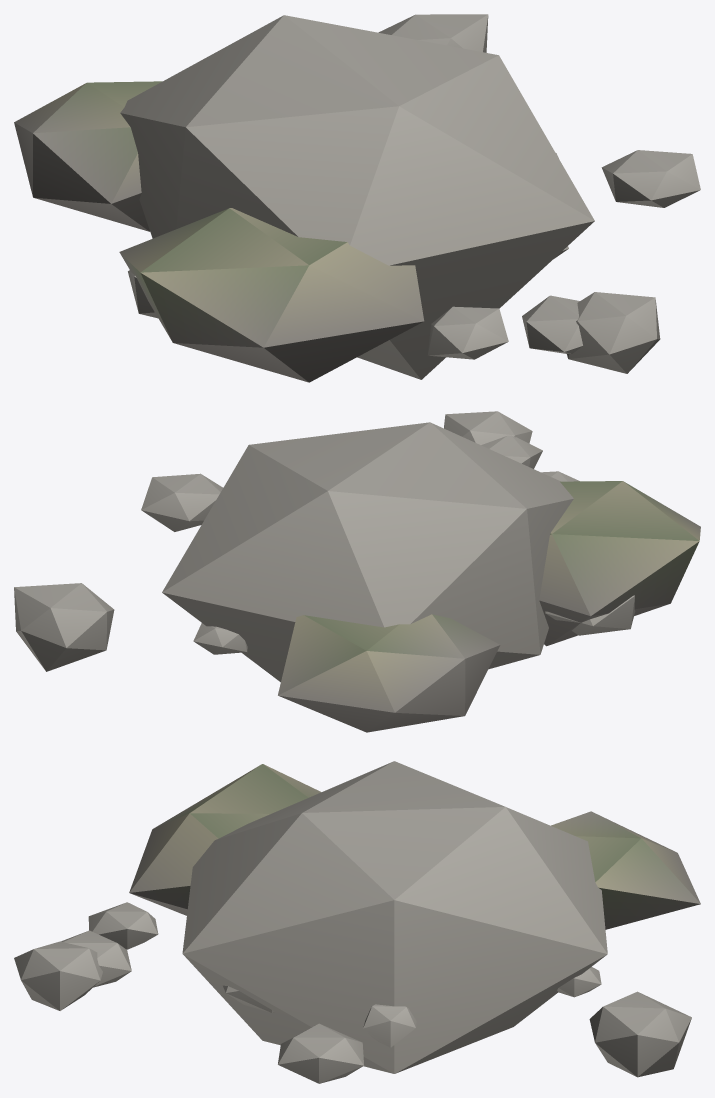
Rendered from outcrop_quarried_a.glb.
The picture shows the model from 3 angles, top to bottom: view 1: azimuth 30°, elevation 25°; view 2: azimuth 150°, elevation 25°; view 3: azimuth 270°, elevation 25°; orthographic projection. The views are drawn at different scales.
Visible parts, largest first — view 1: outcrop_quarried_a; view 2: outcrop_quarried_a; view 3: outcrop_quarried_a.
Boxes of the visible parts, bbox=[...] form: outcrop_quarried_a: bbox=[14, 14, 700, 382]; outcrop_quarried_a: bbox=[14, 411, 700, 732]; outcrop_quarried_a: bbox=[14, 761, 700, 1083].
Bounding box in the file's own units: 1.2 × 0.517 × 1.38.
